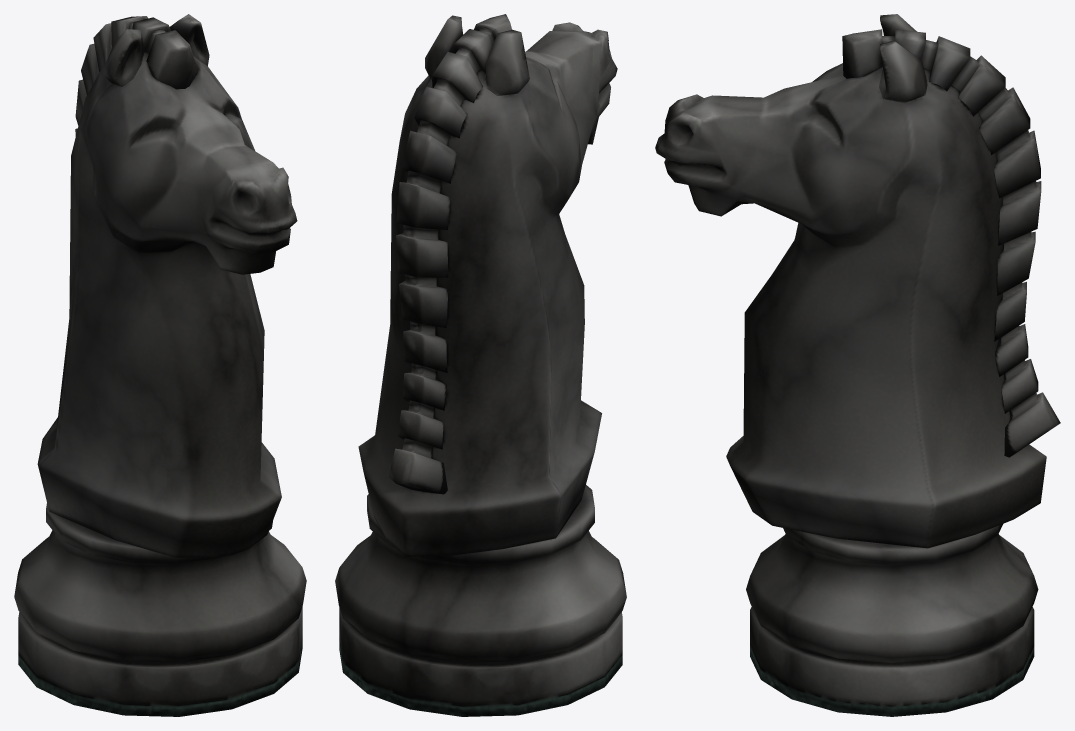
Rendered from ChessPieces_Knight_Black.gltf.
3 views of the same model, side by side, from view 1: azimuth 30°, elevation 25°; view 2: azimuth 150°, elevation 25°; view 3: azimuth 270°, elevation 25° (orthographic).
Parts seen in each view (by area): view 1: ChessPieces_Knight_Black; view 2: ChessPieces_Knight_Black; view 3: ChessPieces_Knight_Black.
Part boxes in pixels (left/top/right/bottom): ChessPieces_Knight_Black: left=14, top=14, right=306, bottom=716; ChessPieces_Knight_Black: left=335, top=14, right=626, bottom=716; ChessPieces_Knight_Black: left=655, top=14, right=1060, bottom=716.
Bounding box in the file's own units: 0.0277 × 0.0655 × 0.0384.
1 material, 1 textured.
